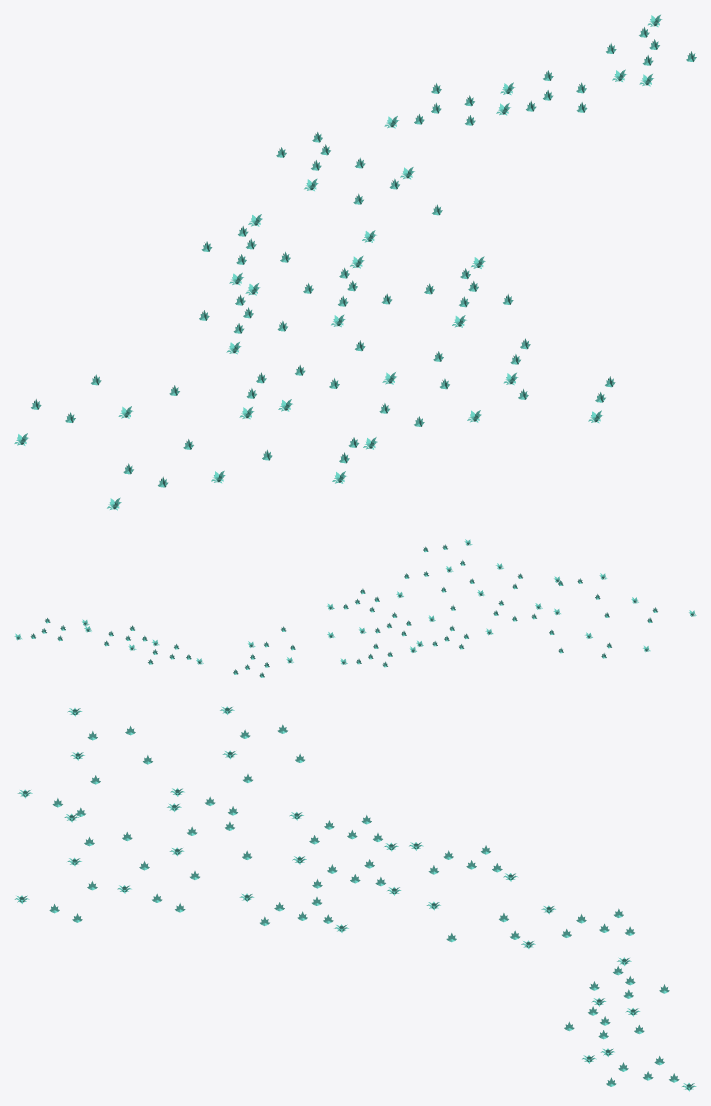
The model's file is non-collidable.glb.
3 views of the same model, one above another, from view 1: azimuth 30°, elevation 25°; view 2: azimuth 150°, elevation 25°; view 3: azimuth 270°, elevation 25° (orthographic). The views are drawn at different scales.
Size of the model in its own units: 172 by 1.91 by 130.
